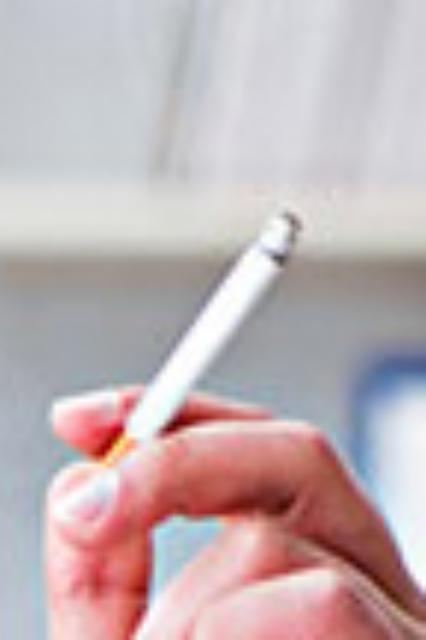Smoking: (78, 207, 306, 503)
